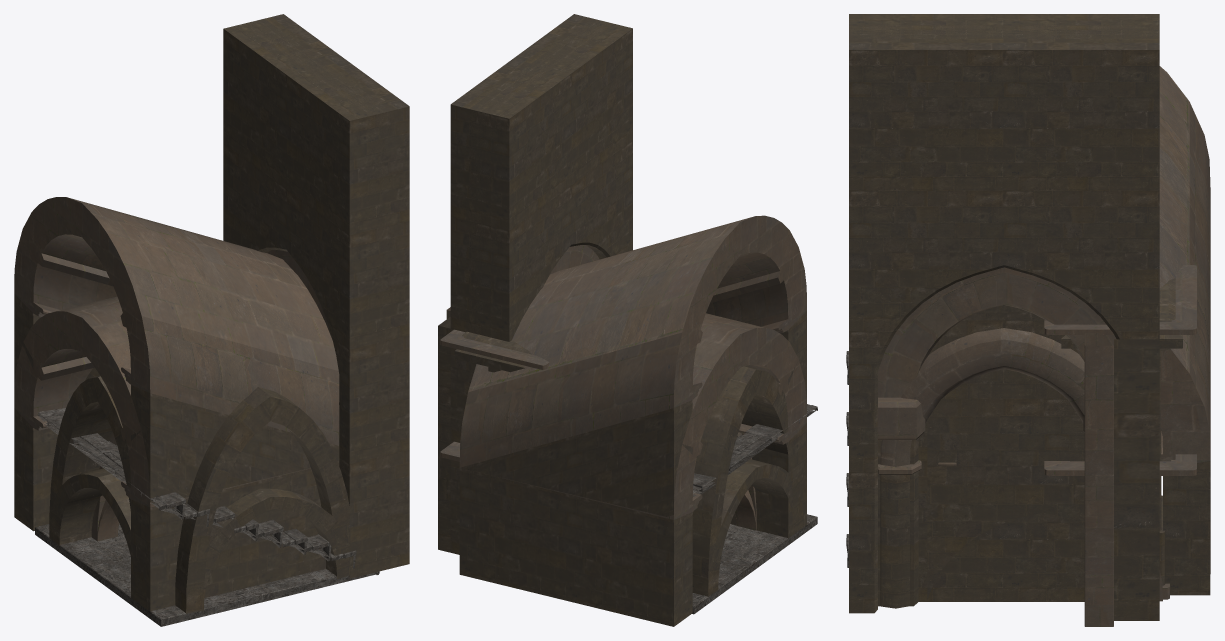
File: ModularWalls.fbx
3 views of the same model, side by side, from view 1: azimuth 30°, elevation 25°; view 2: azimuth 150°, elevation 25°; view 3: azimuth 270°, elevation 25° (orthographic). The views are drawn at different scales.
Parts seen in each view (by area): view 1: StraightWallArchThick, StraightArchedStairWall, StraightArchedWall, Vault2m, Vault1m, Stairs1, Floor1, StraightWallArchThin, Floor2, Wall4m; view 2: StraightArchedStairWall, StraightWallArchThick, StraightArchedWall, Vault2m, StraightWallArchThin, Vault1m, Wall4m, Floor1, Stairs1, VaultColumnA2m, VaultCollumnB2m, Floor2 (+2 smaller); view 3: StraightWallArchThick, VaultCap, StraightArchedStairWall, VaultColumnA2m, WallDoor, VaultColumnA1m, Wall2m, WallWindow, StraightWallArchThin, Wall4m, VaultCollumnB2m, VaultCollumnB1m (+3 smaller).
Part boxes in pixels (x1,y1,x2,y2): StraightWallArchThick: (223,14,409,578); StraightArchedStairWall: (14,197,339,503); StraightArchedWall: (14,296,339,611); Vault2m: (49,367,349,612); Vault1m: (49,468,349,613); Stairs1: (38,408,378,574); Floor1: (35,524,379,626); StraightWallArchThin: (243,18,390,569); Floor2: (39,523,374,624); Wall4m: (246,21,388,116); StraightArchedStairWall: (459,215,806,516); StraightWallArchThick: (450,14,632,554); StraightArchedWall: (459,313,806,626); Vault2m: (692,366,803,596); StraightWallArchThin: (469,19,612,386); Vault1m: (708,459,803,596); Wall4m: (469,19,613,337); Floor1: (692,514,817,614); Stairs1: (693,404,817,496); VaultColumnA2m: (438,307,450,550); VaultCollumnB2m: (440,329,549,369); Floor2: (692,514,814,612); StraightWallArchThick: (849,14,1159,613); VaultCap: (927,305,1084,599); StraightArchedStairWall: (1159,66,1210,595); VaultColumnA2m: (1084,333,1159,626); WallDoor: (878,328,1084,608); VaultColumnA1m: (1084,480,1159,626); Wall2m: (918,369,1084,575); WallWindow: (918,391,1084,601); StraightWallArchThin: (849,25,1159,38); Wall4m: (849,25,1159,443); VaultCollumnB2m: (1044,265,1196,530); VaultCollumnB1m: (1044,454,1196,599).
Size of the model in its own units: 498 by 806 by 469.
